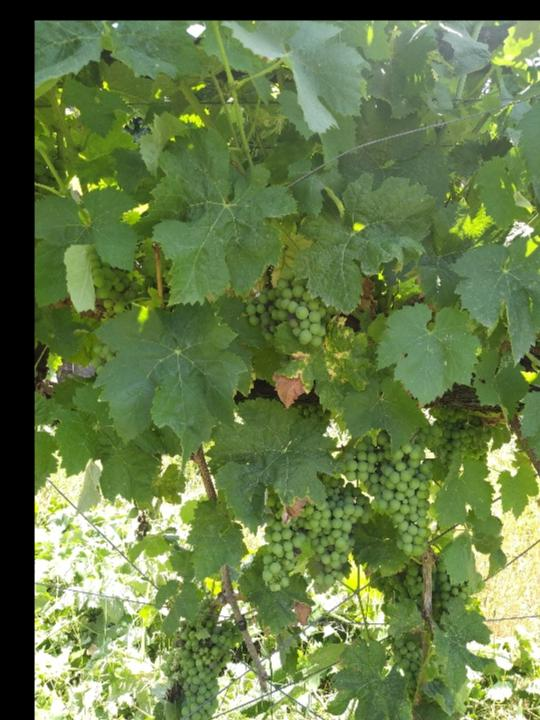grape: (341, 424, 445, 557), (296, 469, 372, 587), (173, 612, 247, 720), (245, 263, 338, 348), (261, 489, 308, 593)
